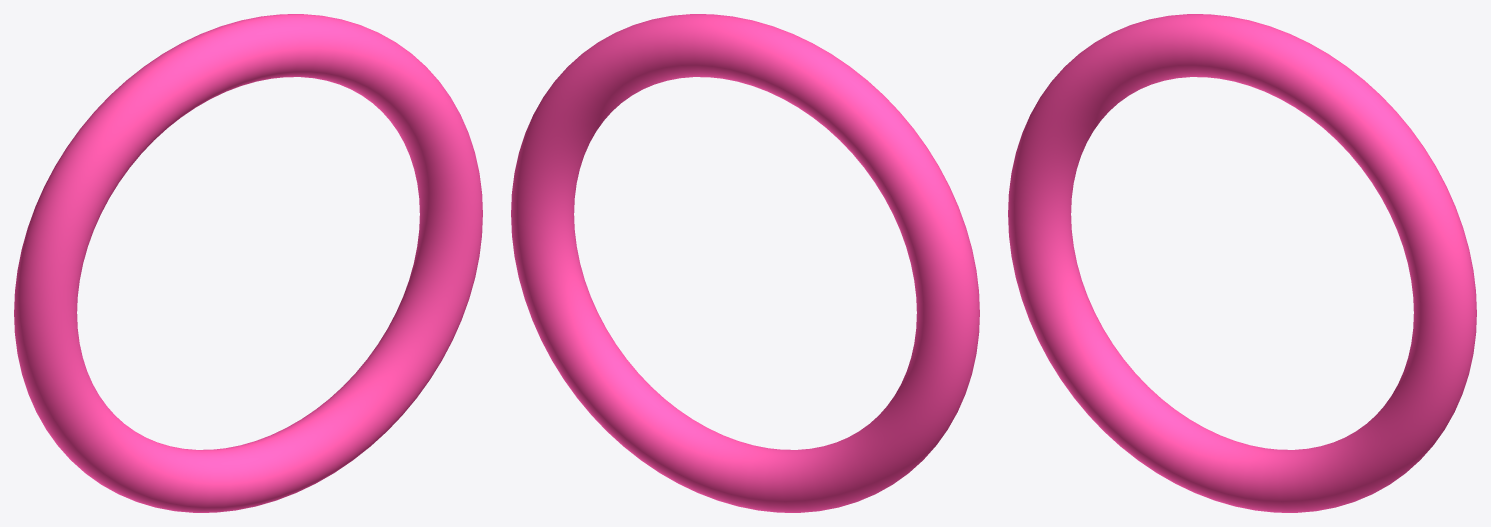
The picture shows the model from 3 angles, left to right: view 1: azimuth 30°, elevation 25°; view 2: azimuth 150°, elevation 25°; view 3: azimuth 330°, elevation 25°; orthographic projection.
Parts seen in each view (by area): view 1: Continuous rounded O ring; view 2: Continuous rounded O ring; view 3: Continuous rounded O ring.
Boxes of the visible parts, x1,y1,x2,y2 form: Continuous rounded O ring: [14, 14, 482, 512]; Continuous rounded O ring: [511, 14, 979, 512]; Continuous rounded O ring: [1008, 14, 1476, 512].
Bounding box in the file's own units: 1.23 × 1.23 × 0.146.
